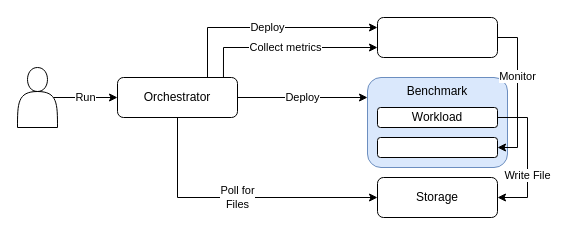
The diagram is 568 pixels wide and 235 high, and some of its shapes have lost their labels. Each missing label, with the box of its shape:
Microservice: (376, 136, 498, 158)
Monitoring Server: (376, 16, 498, 58)
